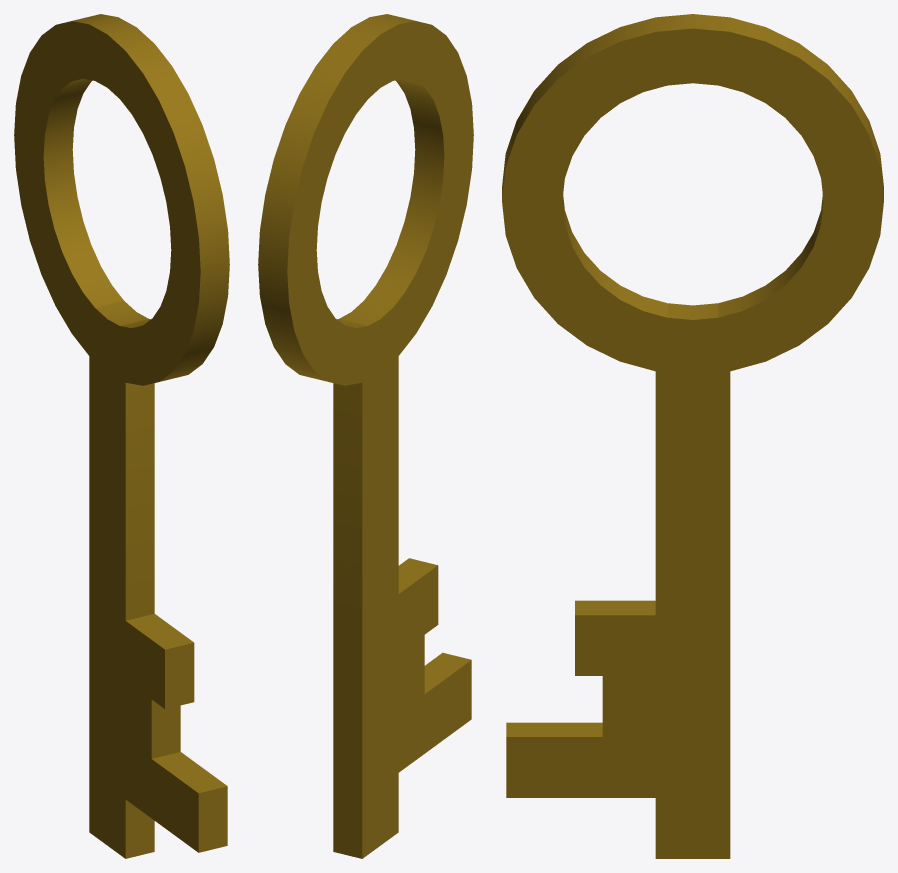
File: key.fbx
The picture shows the model from 3 angles, left to right: view 1: azimuth 30°, elevation 25°; view 2: azimuth 150°, elevation 25°; view 3: azimuth 270°, elevation 25°; orthographic projection. The views are drawn at different scales.
Visible parts, largest first — view 1: Circle; view 2: Circle; view 3: Circle.
Boxes of the visible parts, <box> form: Circle: <box>14,14,229,858</box>; Circle: <box>258,14,473,858</box>; Circle: <box>502,14,883,858</box>.
Size of the model in its own units: 18.04 by 480 by 200.
